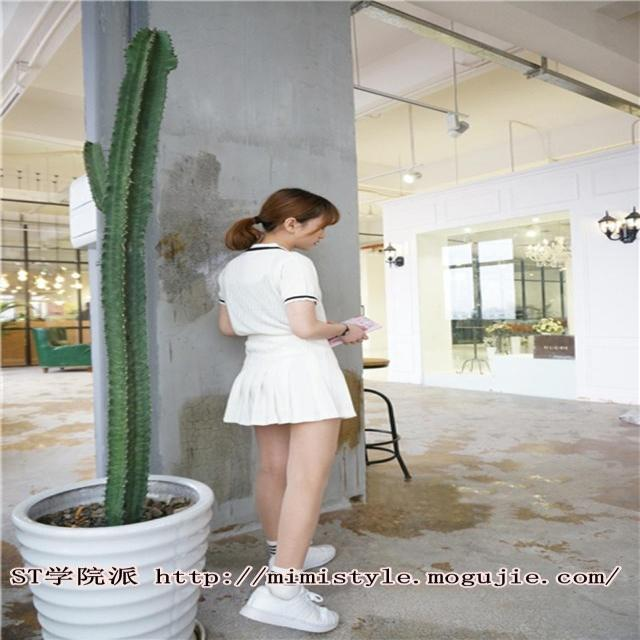short sleeve top: (218, 245, 327, 336)
skirt: (225, 331, 354, 423)
